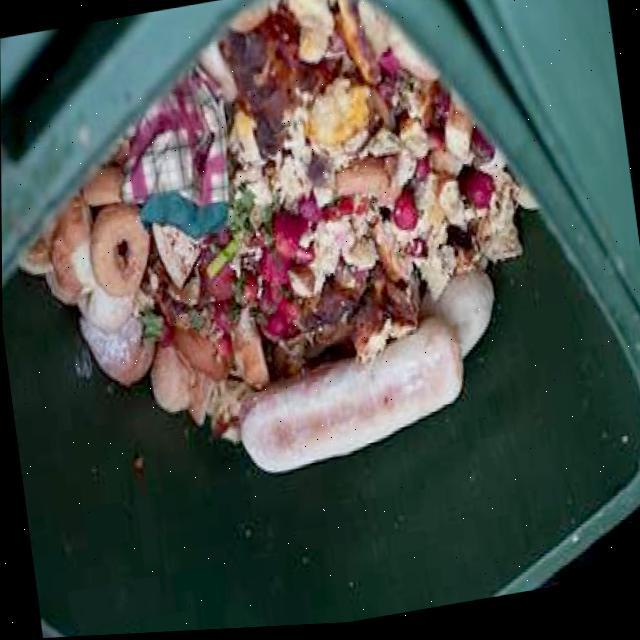Garbage: (20, 0, 538, 474)
